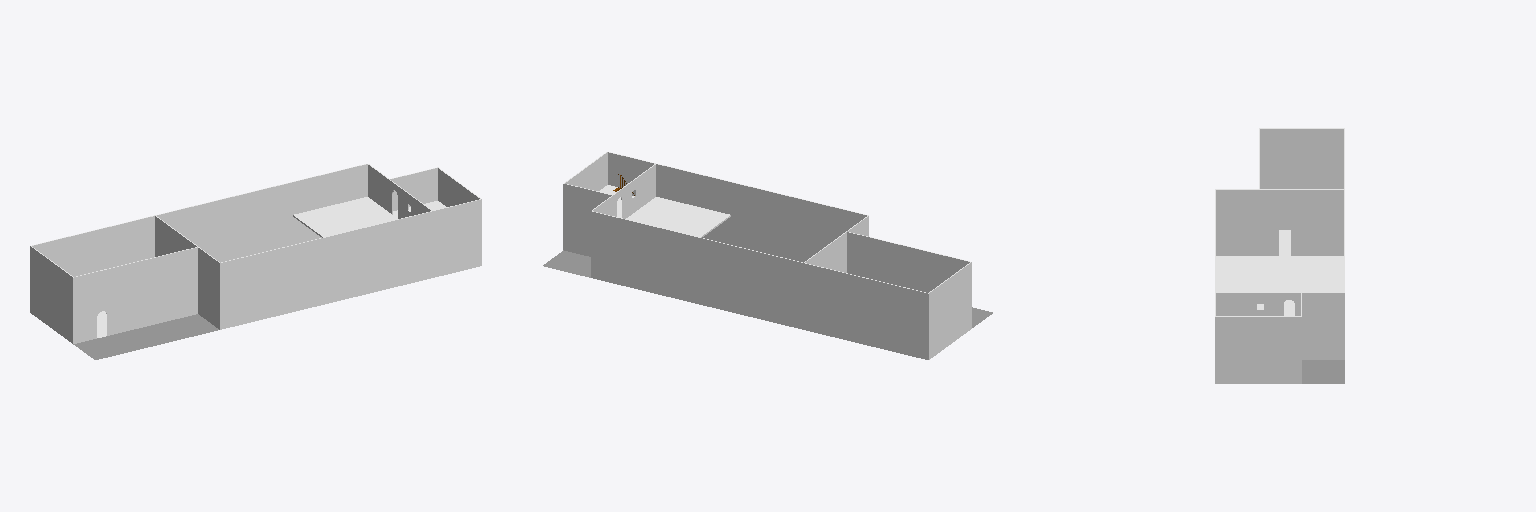
The model's file is Casa2.obj.
The picture shows the model from 3 angles: view 1: azimuth 30°, elevation 25°; view 2: azimuth 150°, elevation 25°; view 3: azimuth 270°, elevation 25°; orthographic projection.
Visible parts, largest first — view 1: wall_14_82, wall_18_107, wall_7_40, wall_16_94, wall_3_16, wall_5_29, ground_1, wall_12_71, room_27_143, wall_23_136, wall_11_64, wall_17_100 (+8 smaller); view 2: wall_5_28, wall_18_106, wall_14_83, wall_16_95, wall_1_4, wall_7_41, wall_12_70, wall_19_113, room_27_143, wall_17_100, wall_13_77, wall_4_22 (+7 smaller); view 3: room_25_141, wall_13_76, wall_22_130, wall_10_58, wall_20_118, wall_17_101, wall_2_10, wall_4_23, wall_15_89, wall_6_34, wall_8_47, ground_1 (+1 smaller).
Part boxes in pixels (x1,y1,x2,y2): wall_14_82: (220, 211, 432, 296); wall_18_107: (32, 182, 292, 271); wall_7_40: (220, 246, 432, 329); wall_16_94: (73, 247, 197, 311); wall_3_16: (73, 281, 197, 343); wall_5_29: (67, 217, 321, 276); ground_1: (73, 314, 218, 359); wall_12_71: (293, 164, 367, 214); room_27_143: (293, 197, 397, 237); wall_23_136: (433, 199, 481, 244); wall_11_64: (433, 234, 481, 277); wall_17_100: (30, 246, 72, 310); wall_5_28: (591, 246, 928, 359); wall_18_106: (666, 230, 928, 327); wall_14_83: (656, 164, 866, 240); wall_16_95: (847, 232, 969, 287); wall_1_4: (803, 297, 927, 359); wall_7_41: (702, 217, 832, 262); wall_12_70: (591, 211, 665, 263); wall_19_113: (666, 231, 803, 296); room_27_143: (626, 197, 730, 237); wall_17_100: (929, 262, 971, 326); wall_13_77: (593, 165, 655, 218); wall_4_22: (929, 297, 971, 359); room_25_141: (1216, 256, 1343, 288); wall_13_76: (1216, 293, 1344, 326); wall_22_130: (1215, 317, 1301, 350); wall_10_58: (1215, 351, 1301, 383); wall_20_118: (1259, 190, 1343, 223); wall_17_101: (1260, 129, 1343, 162); wall_2_10: (1259, 224, 1343, 255); wall_4_23: (1260, 163, 1343, 188); wall_15_89: (1216, 190, 1259, 223); wall_6_34: (1302, 327, 1344, 359); wall_8_47: (1216, 224, 1262, 255); ground_1: (1302, 360, 1344, 383).
Bounding box in the file's own units: 3102 × 512 × 908.